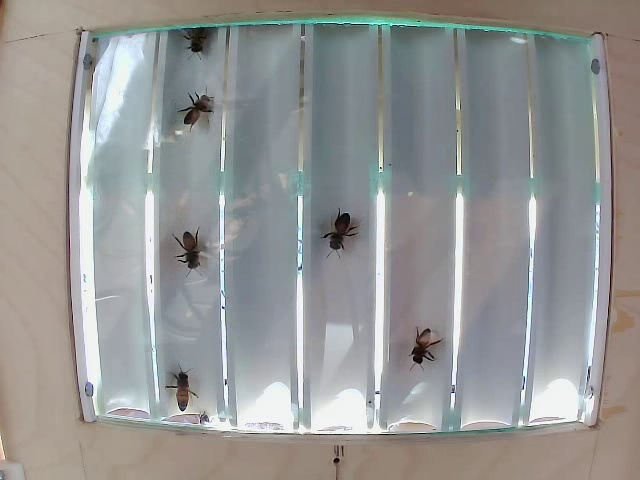bee: (178, 233, 218, 283), (162, 368, 204, 409), (399, 319, 433, 363), (181, 101, 221, 136), (320, 204, 347, 248), (187, 32, 215, 66)
